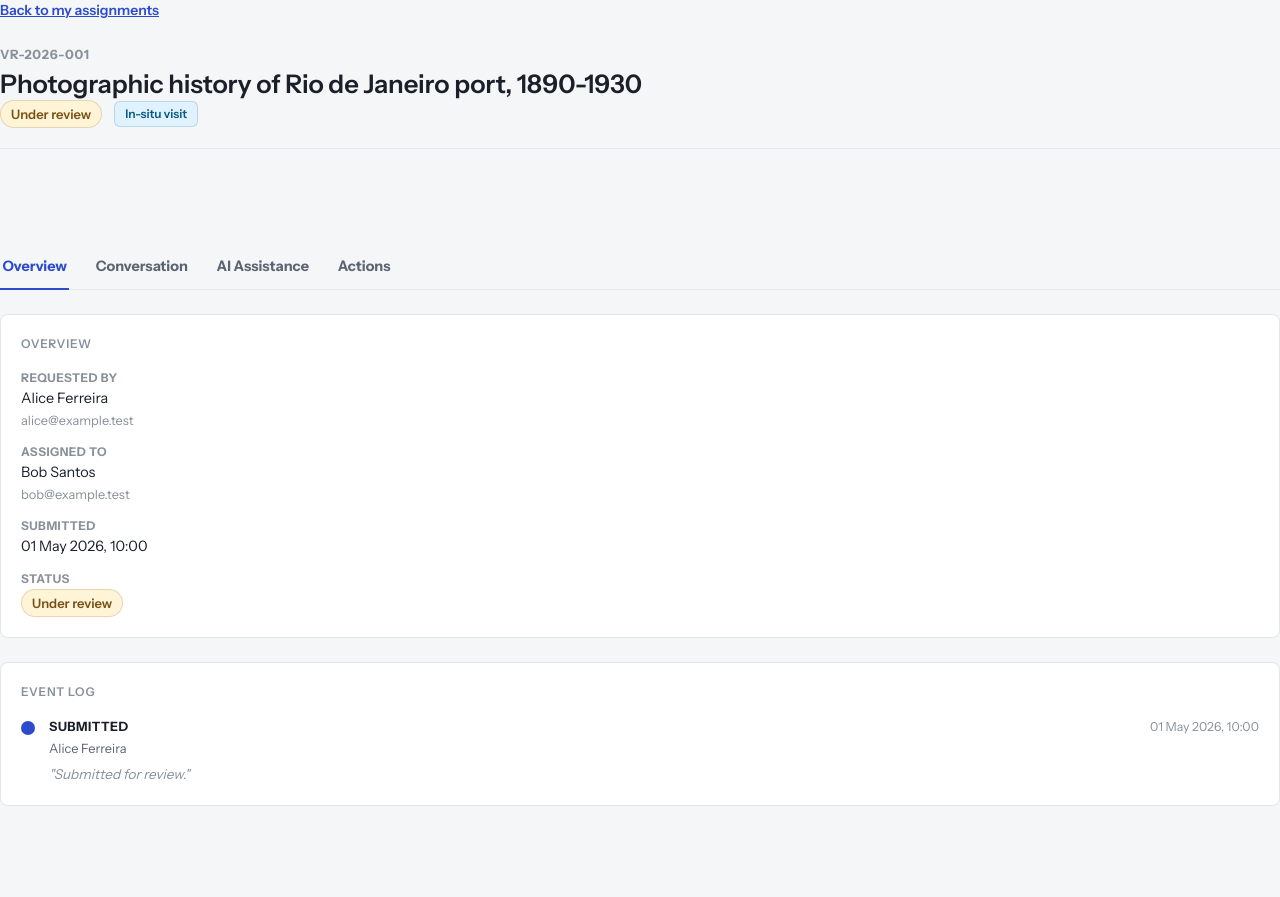
it: ProposalMyDetailPageComponent › marks requester and staff messages with distinct roles and icons
The image size is (1280, 897).
Click the tab "Conversation": (142, 267) left=93, top=245, right=190, bottom=290
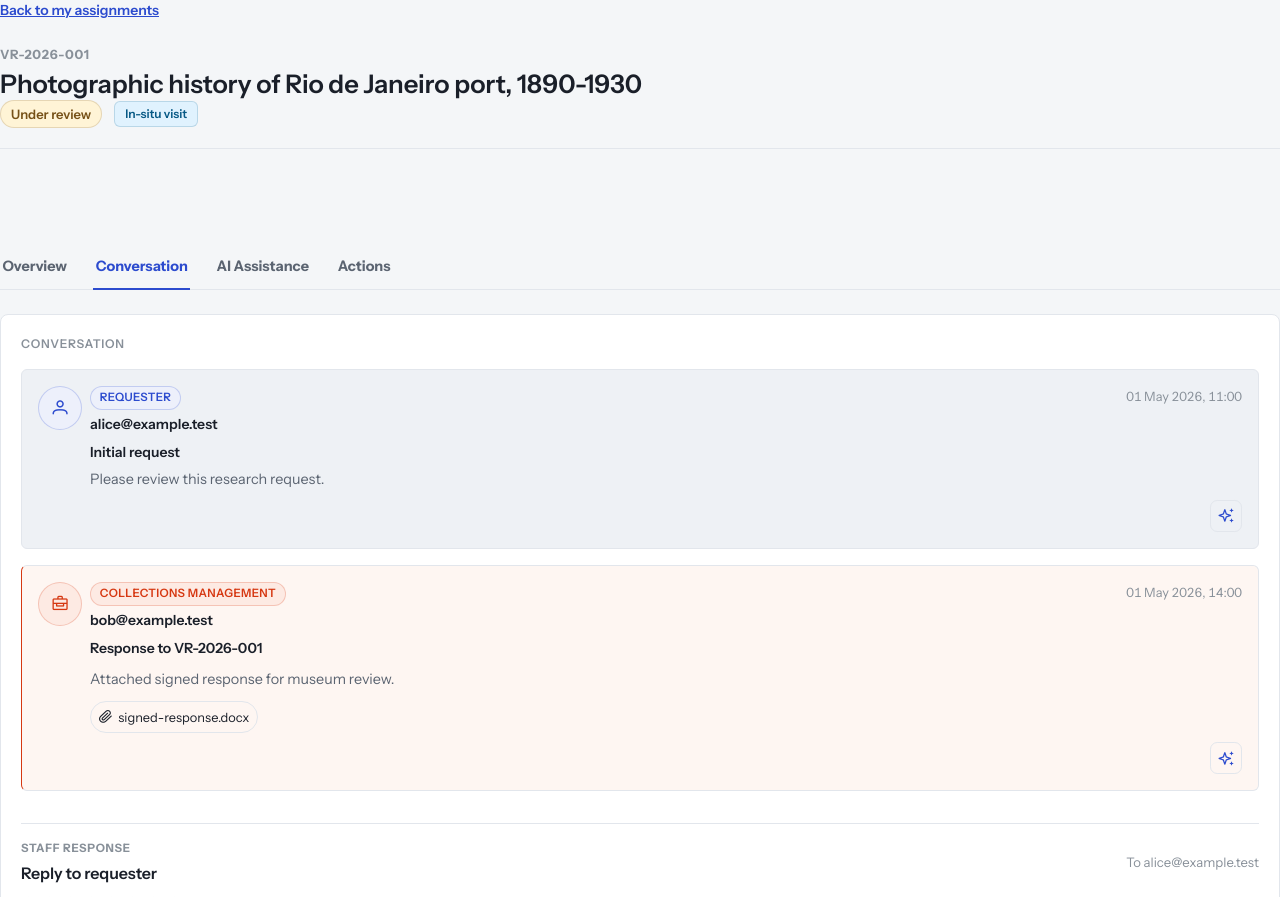
Expected: the list item with class "message" shows "Requester", left=100, top=390, right=171, bottom=404
Expected: the list item with class "message" shows "COLLECTIONS MANAGEMENT", left=100, top=586, right=276, bottom=600
Expected: the list item with class "message" shows "signed-response.docx", left=99, top=708, right=249, bottom=727
